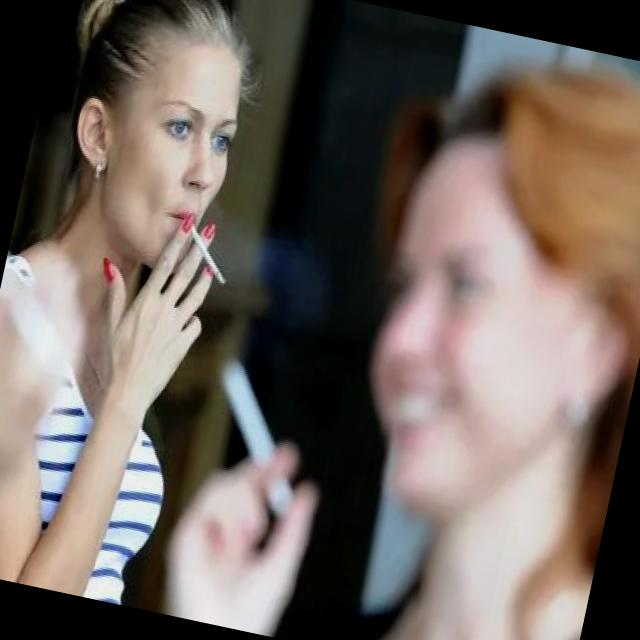cigarette: (188, 344, 326, 526), (170, 212, 247, 294)
